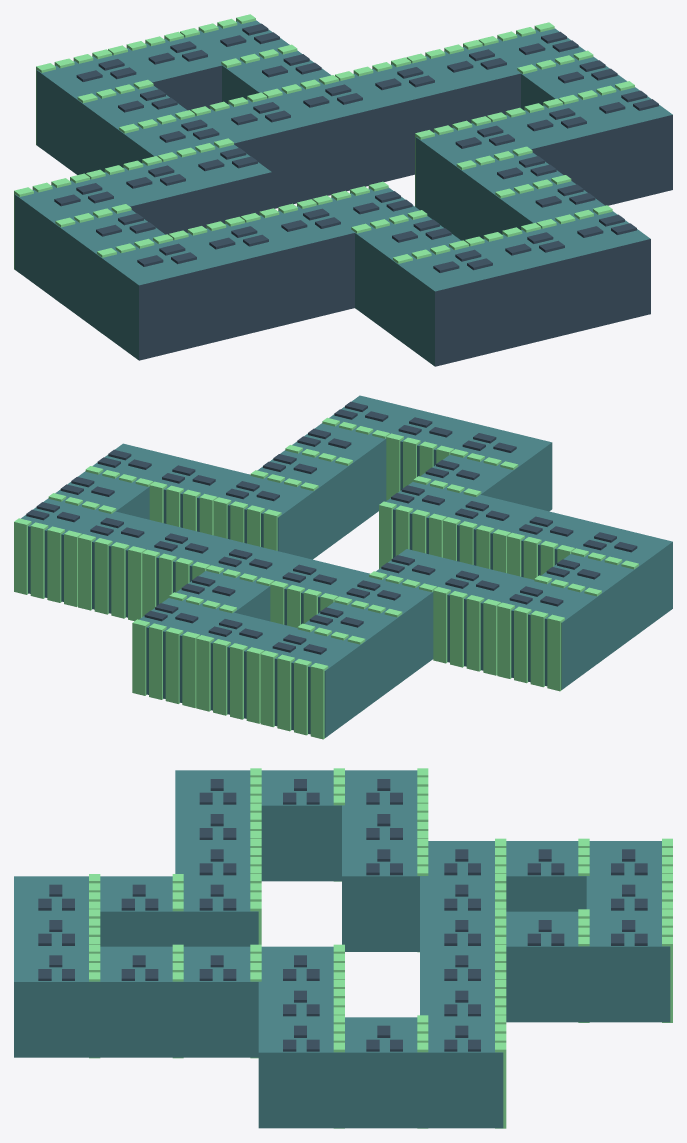
Rendered from F_ScianyMiniGra.fbx.
The picture shows the model from 3 angles, top to bottom: view 1: azimuth 30°, elevation 25°; view 2: azimuth 150°, elevation 25°; view 3: azimuth 270°, elevation 25°; orthographic projection. The views are drawn at different scales.
Parts seen in each view (by area): view 1: F_ScianyMiniGra; view 2: F_ScianyMiniGra; view 3: F_ScianyMiniGra.
Part boxes in pixels (left/top/right/bottom): F_ScianyMiniGra: left=14, top=14, right=672, bottom=366; F_ScianyMiniGra: left=14, top=395, right=672, bottom=739; F_ScianyMiniGra: left=14, top=768, right=672, bottom=1128.
Size of the model in its own units: 176 by 23.02 by 174.
